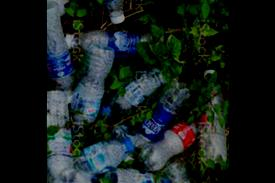Plastic: (115, 74, 190, 165), (65, 40, 114, 129), (95, 64, 171, 119), (134, 117, 201, 174), (55, 25, 153, 57), (47, 88, 75, 182), (47, 4, 73, 103), (156, 155, 222, 182), (81, 0, 126, 29), (51, 167, 112, 182)
